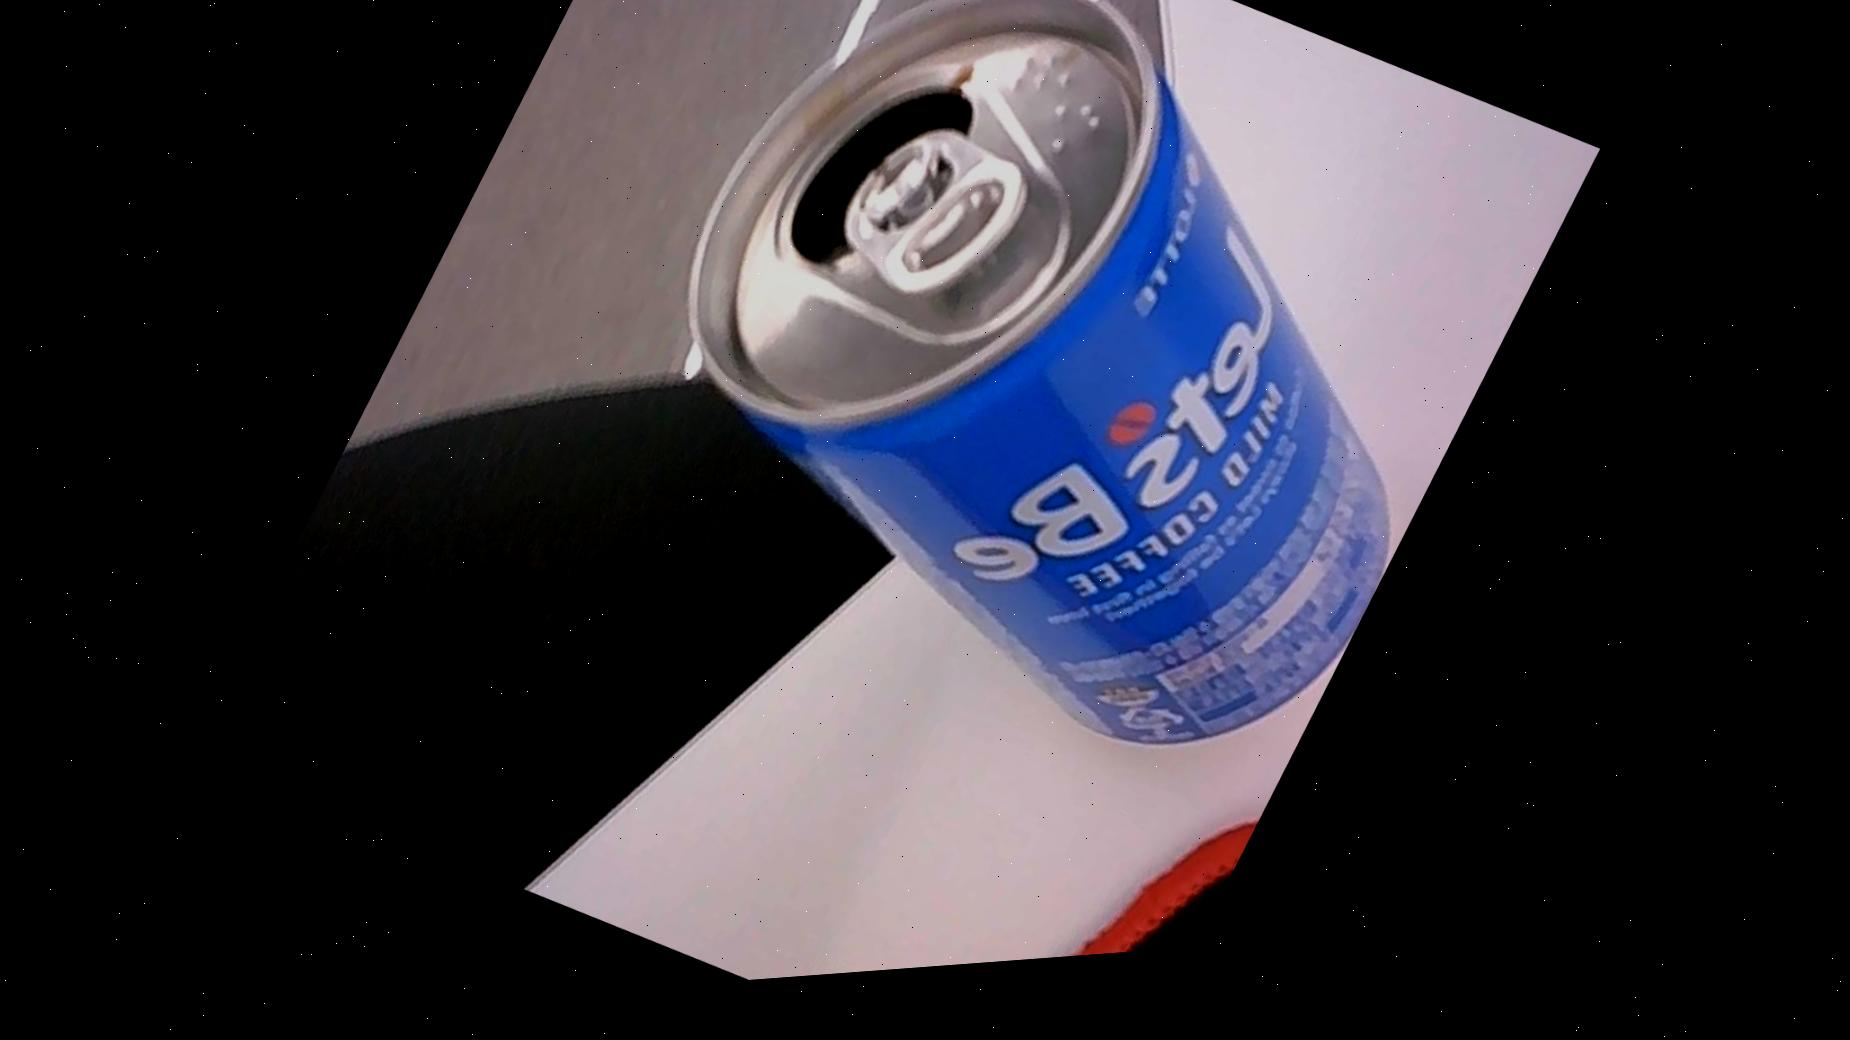letsbe: (543, 0, 1598, 867)
